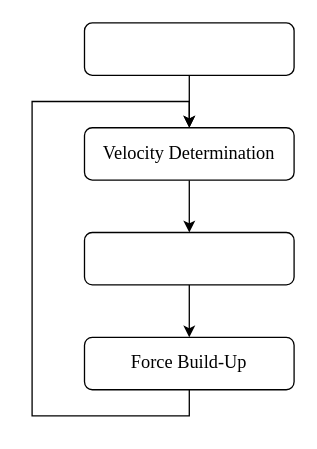
The diagram is 317 pixels wide and 449 high, and some of its shapes have lost their labels. Here are the shapes that lost their labels. From the top down, the centre of each, then its label:
At (188,48): "Element Break-Down".
At (188,258): "Coefficient Determination".
